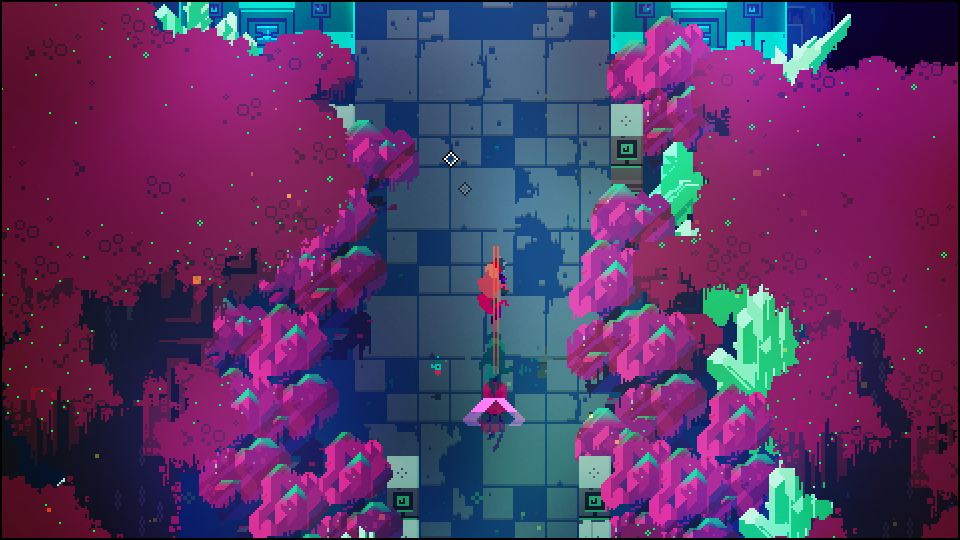player: (474, 258, 507, 312)
